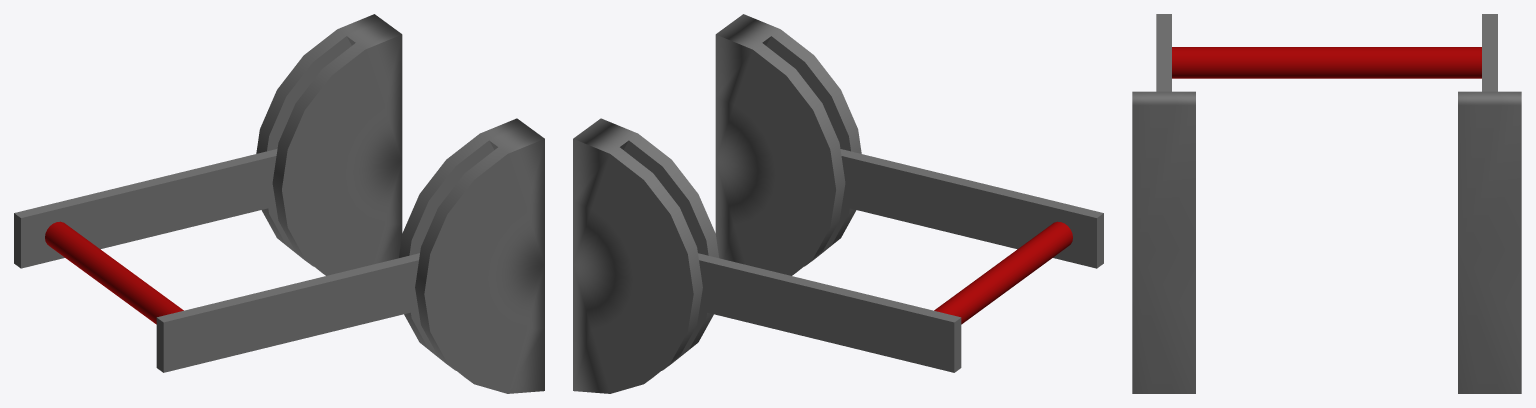
The model's file is SWR.fbx.
3 views of the same model, side by side, from view 1: azimuth 30°, elevation 25°; view 2: azimuth 150°, elevation 25°; view 3: azimuth 270°, elevation 25° (orthographic). The views are drawn at different scales.
Parts seen in each view (by area): view 1: SWASL, SWASL1, SWSR, SWSL, Axis; view 2: SWASL1, SWASL, SWSL, SWSR, Axis; view 3: SWASL, SWASL1, Axis, SWSR, SWSL.
Boxes of the visible parts, x1,y1,x2,y2 form: SWASL: (399, 118, 544, 393); SWASL1: (256, 14, 402, 275); SWSR: (156, 253, 419, 372); SWSL: (14, 149, 277, 268); Axis: (45, 221, 183, 324); SWASL1: (573, 118, 718, 393); SWASL: (715, 14, 861, 275); SWSL: (698, 253, 961, 372); SWSR: (840, 149, 1103, 268); Axis: (934, 221, 1072, 324); SWASL: (1132, 91, 1195, 393); SWASL1: (1458, 91, 1521, 393); Axis: (1172, 47, 1481, 78); SWSR: (1156, 14, 1171, 91); SWSL: (1482, 14, 1497, 91).
Bounding box in the file's own units: 3.08 × 2 × 2.45.
